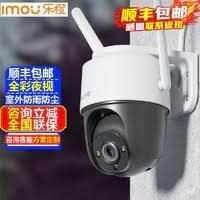maru: (79, 47, 176, 180)
